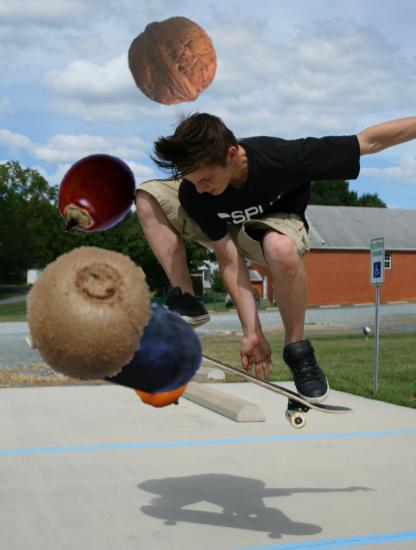Blueberry: (74, 278, 206, 410)
Kiwi: (22, 247, 159, 384)
Pepper: (132, 353, 190, 411)
Tamarillo: (52, 151, 141, 240)
Walnut: (128, 16, 220, 108)
